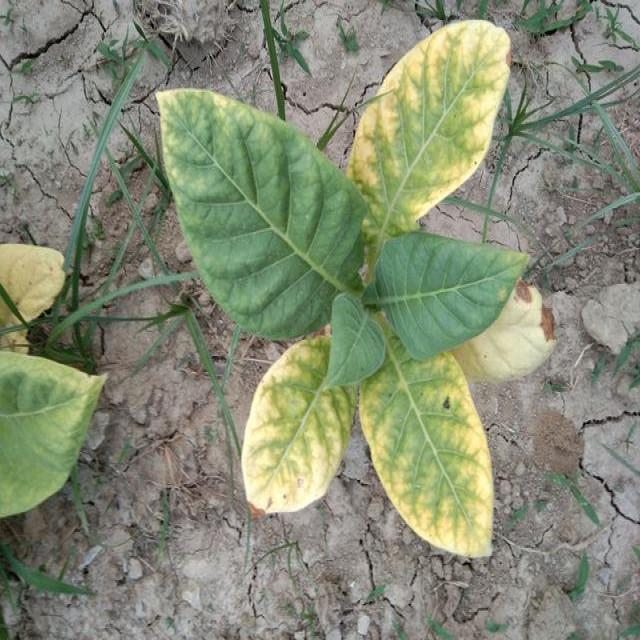crop: (150, 32, 526, 558), (2, 234, 107, 516)
